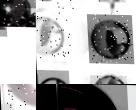ironball: (85, 13, 132, 63), (36, 12, 69, 61), (0, 0, 35, 27), (0, 84, 36, 109), (36, 70, 68, 84), (88, 74, 126, 84)
